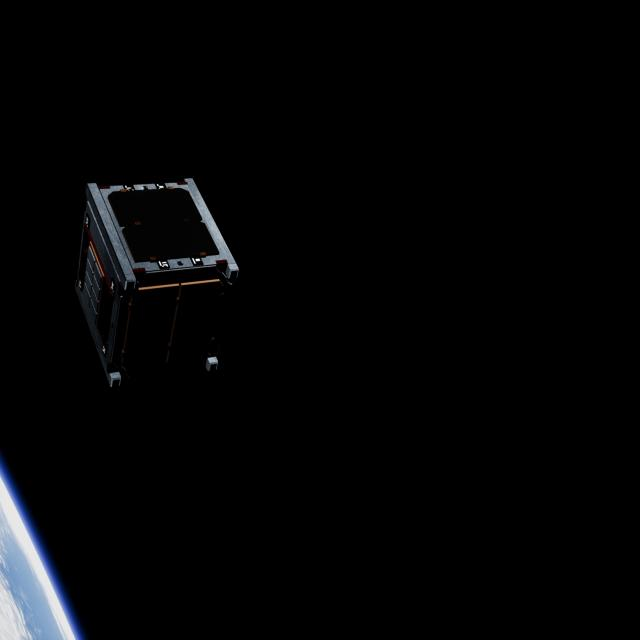satellite: (64, 163, 244, 403)
